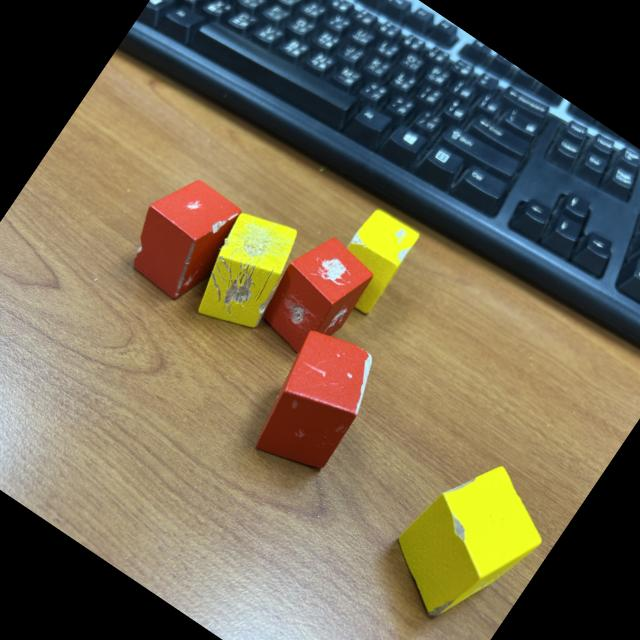broken: (368, 438, 565, 640), (239, 317, 392, 485), (113, 164, 250, 308), (180, 198, 314, 344), (250, 226, 380, 366), (321, 204, 422, 316)
